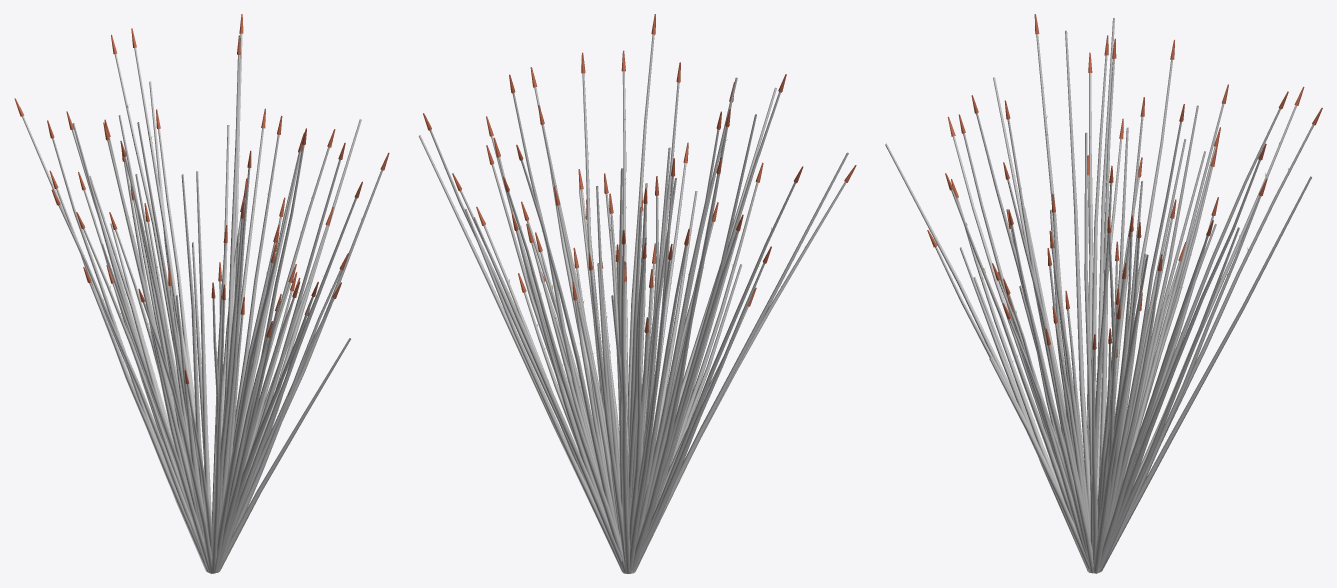
The model's file is ocotillo.glb.
The picture shows the model from 3 angles, left to right: view 1: azimuth 30°, elevation 25°; view 2: azimuth 150°, elevation 25°; view 3: azimuth 270°, elevation 25°; orthographic projection. The views are drawn at different scales.
Parts seen in each view (by area): view 1: ocotillo_1, ocotillo_0, ocotillo_2, ocotillo_0_mid, ocotillo_1_mid, ocotillo_2_mid; view 2: ocotillo_1, ocotillo_2, ocotillo_0, ocotillo_1_mid, ocotillo_2_mid, ocotillo_0_mid; view 3: ocotillo_1, ocotillo_2, ocotillo_0, ocotillo_2_mid, ocotillo_1_mid, ocotillo_0_mid.
Boxes of the visible parts, bbox=[...] form: ocotillo_1: bbox=[49, 34, 389, 573]; ocotillo_0: bbox=[47, 14, 345, 572]; ocotillo_2: bbox=[14, 28, 348, 573]; ocotillo_0_mid: bbox=[89, 115, 361, 572]; ocotillo_1_mid: bbox=[72, 123, 350, 573]; ocotillo_2_mid: bbox=[123, 81, 223, 573]; ocotillo_1: bbox=[486, 14, 763, 573]; ocotillo_2: bbox=[493, 74, 856, 573]; ocotillo_0: bbox=[423, 52, 803, 573]; ocotillo_1_mid: bbox=[464, 87, 848, 572]; ocotillo_2_mid: bbox=[473, 77, 741, 573]; ocotillo_0_mid: bbox=[418, 135, 697, 573]; ocotillo_1: bbox=[927, 38, 1322, 573]; ocotillo_2: bbox=[947, 35, 1304, 573]; ocotillo_0: bbox=[1003, 14, 1266, 573]; ocotillo_2_mid: bbox=[973, 30, 1311, 566]; ocotillo_1_mid: bbox=[885, 18, 1239, 572]; ocotillo_0_mid: bbox=[959, 105, 1216, 573].
Size of the model in its own units: 3.61 by 4.96 by 3.92.
